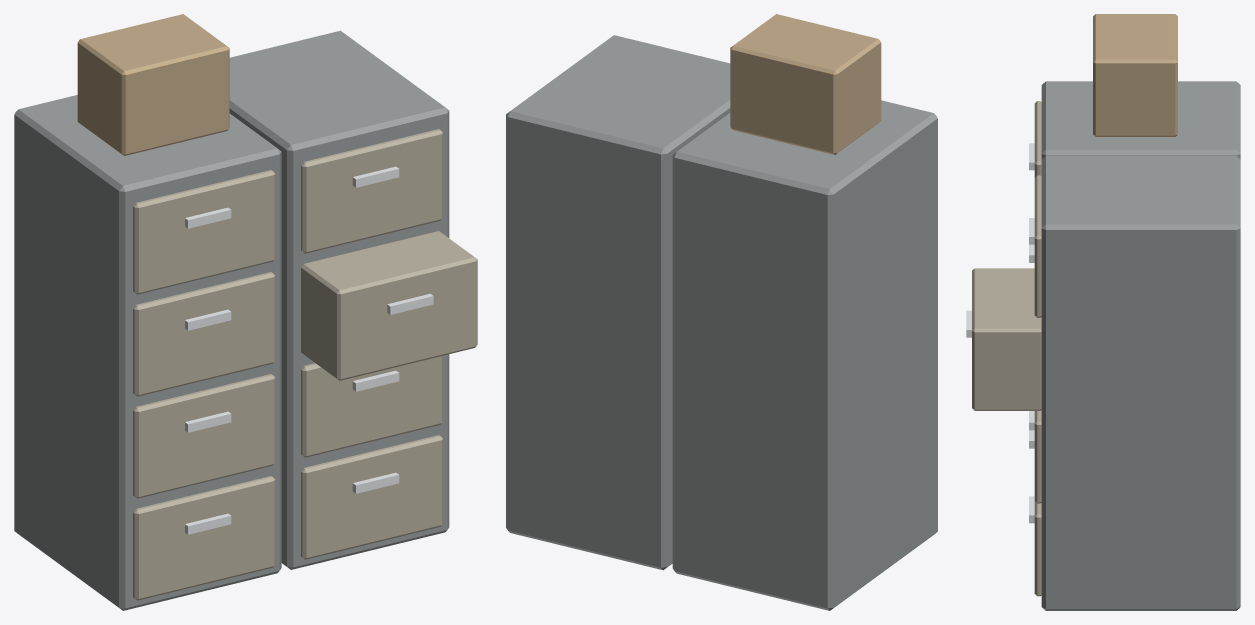
The model's file is an_filing.glb.
3 views of the same model, side by side, from view 1: azimuth 30°, elevation 25°; view 2: azimuth 150°, elevation 25°; view 3: azimuth 270°, elevation 25° (orthographic). The views are drawn at different scales.
Visible parts, largest first — view 1: an_filing; view 2: an_filing; view 3: an_filing.
Part boxes in pixels (x1,y1,x2,y2): an_filing: (14,14,477,610); an_filing: (506,14,937,610); an_filing: (966,14,1240,610).
Size of the model in its own units: 1.22 by 1.81 by 0.965.
